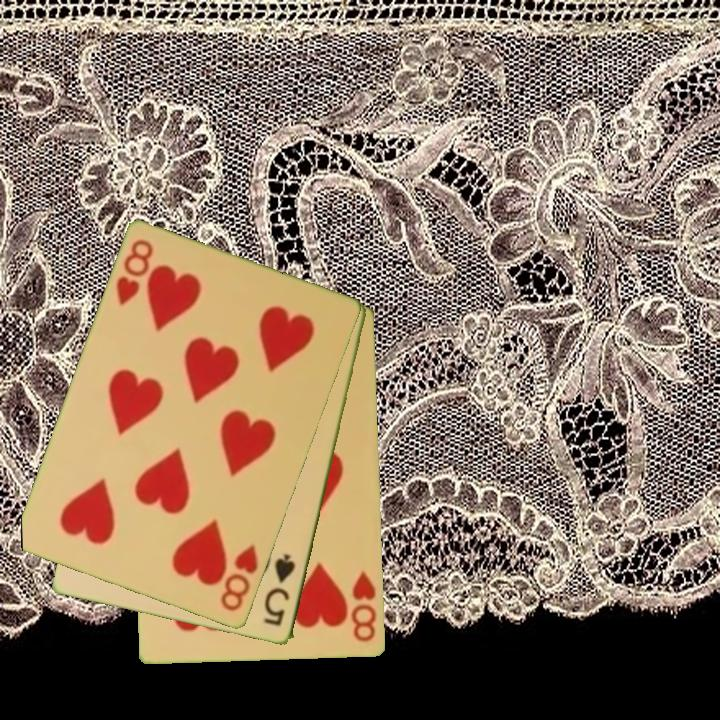5s: (260, 550, 299, 630)
8h: (217, 541, 262, 615), (112, 236, 157, 309), (348, 567, 380, 645)
